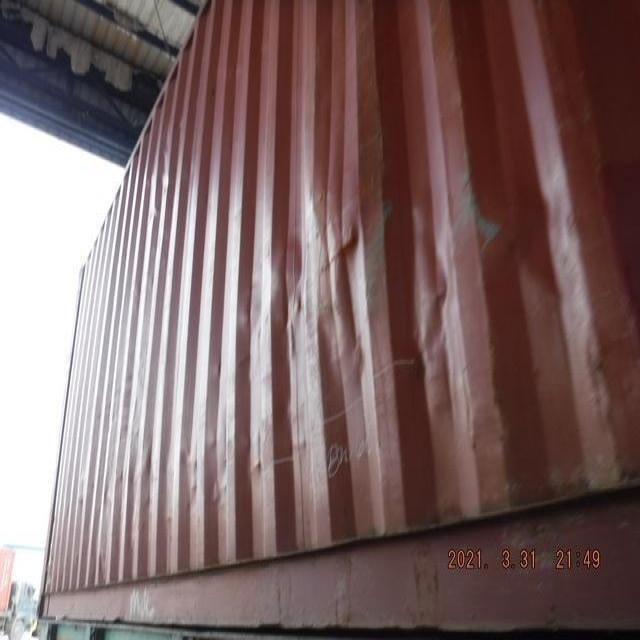dent: (265, 138, 381, 388), (376, 193, 491, 413)
